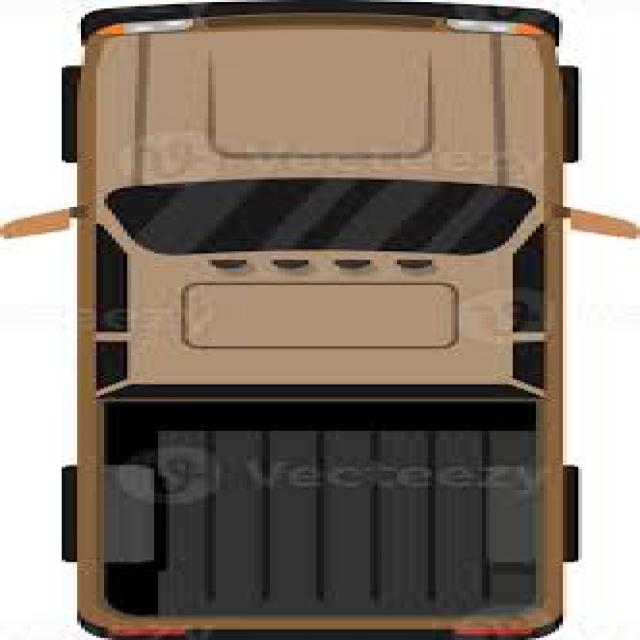truck: (73, 3, 572, 640)
